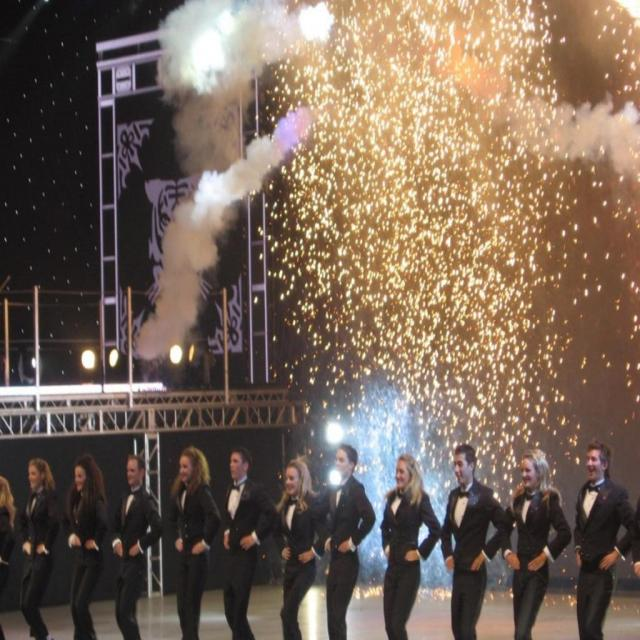nomask: (586, 449, 602, 478), (334, 450, 350, 477), (520, 460, 536, 487), (454, 454, 468, 483), (394, 461, 408, 487), (285, 468, 297, 494), (179, 456, 191, 481), (126, 460, 138, 483), (74, 466, 85, 491), (230, 454, 241, 478), (29, 465, 40, 488)
